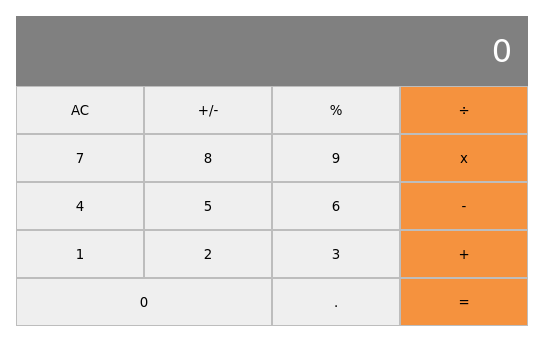
Test: Integration Testing: User interactivity › -1 should display on screen when 2-3 is computed
Click the button "2". click: (208, 254)
box: [144,230,272,278]
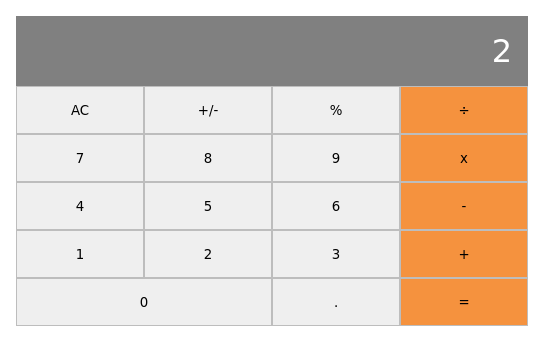
Click the button with test id "operator-minus". click: (464, 206)
box: [400,182,528,230]
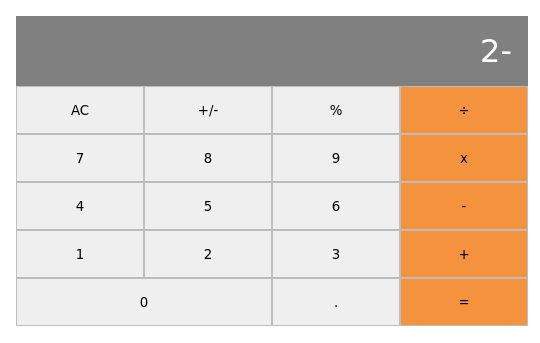
Click the button "3". click: (336, 254)
box: [272,230,400,278]
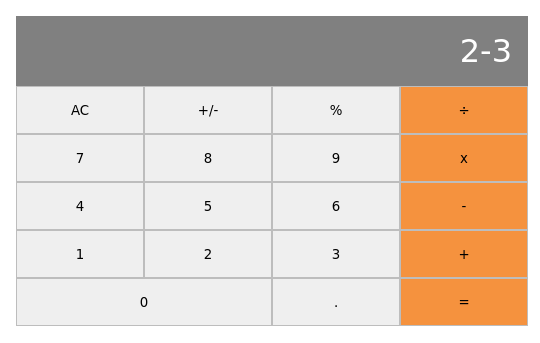
Click the button "=". click: (464, 302)
box: [400,278,528,326]
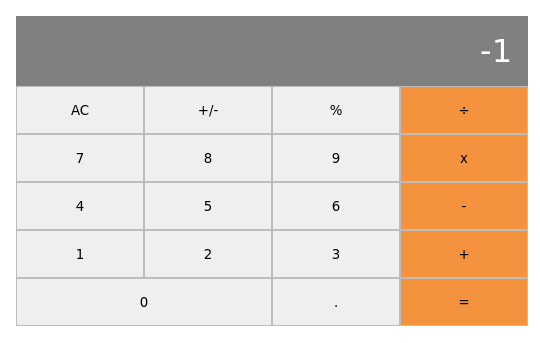
Expected: the element with test id "calc-screen" reads "-1", [480,32,512,70]
